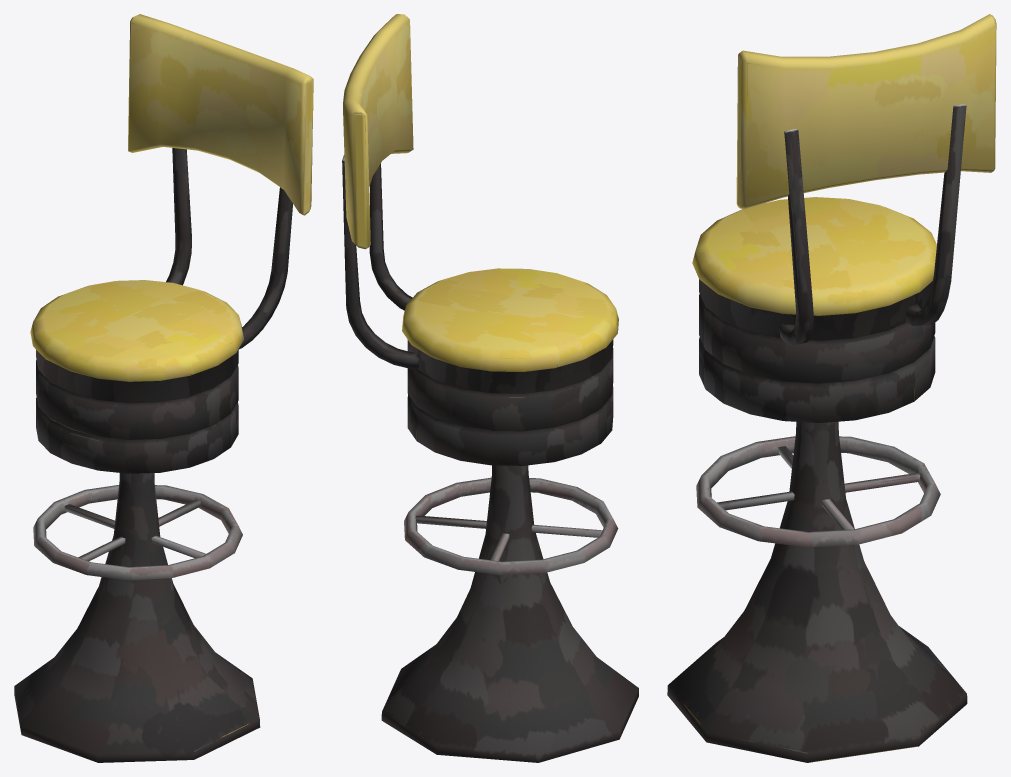
File: Banqueta.fbx
3 views of the same model, side by side, from view 1: azimuth 30°, elevation 25°; view 2: azimuth 150°, elevation 25°; view 3: azimuth 270°, elevation 25° (orthographic). The views are drawn at different scales.
Parts seen in each view (by area): view 1: Cube.020, Cube.021; view 2: Cube.020, Cube.021; view 3: Cube.020, Cube.021.
Boxes of the visible parts, <box> form: Cube.020: <box>30,14,313,473</box>; Cube.021: <box>14,473,260,762</box>; Cube.020: <box>342,14,618,465</box>; Cube.021: <box>381,465,638,762</box>; Cube.020: <box>692,14,996,422</box>; Cube.021: <box>667,421,967,762</box>.
Size of the model in its own units: 0.7881 by 0.7422 by 1.81.
1 material, 1 textured.
